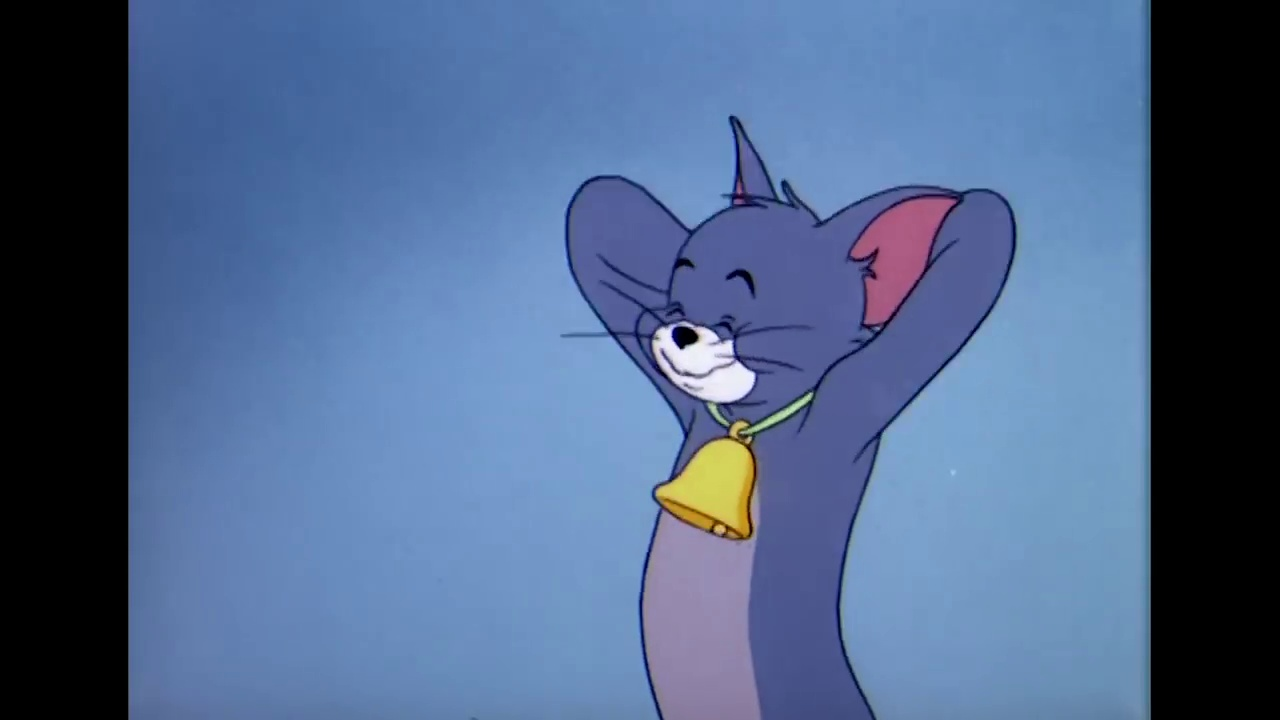tom: (631, 109, 969, 409)
